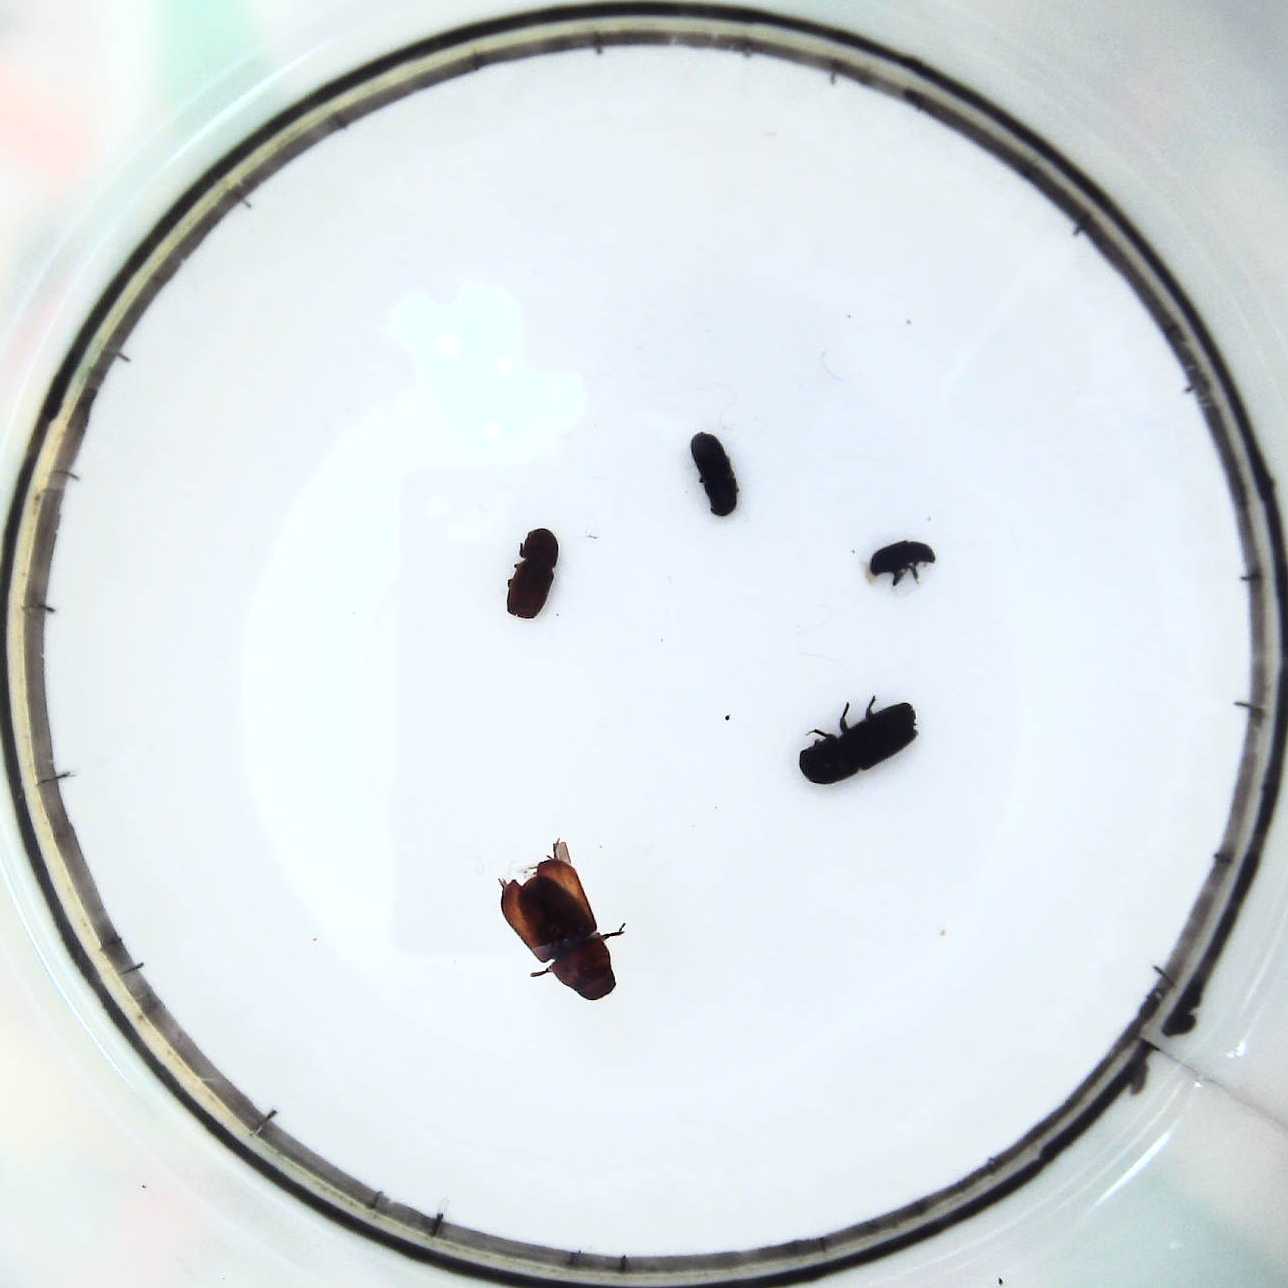Boerner: (794, 694, 919, 788)
Leconte: (498, 846, 622, 1003)
Linnaeus: (504, 524, 561, 619)
armandi: (688, 429, 738, 515)
coleoptera: (865, 538, 937, 589)
